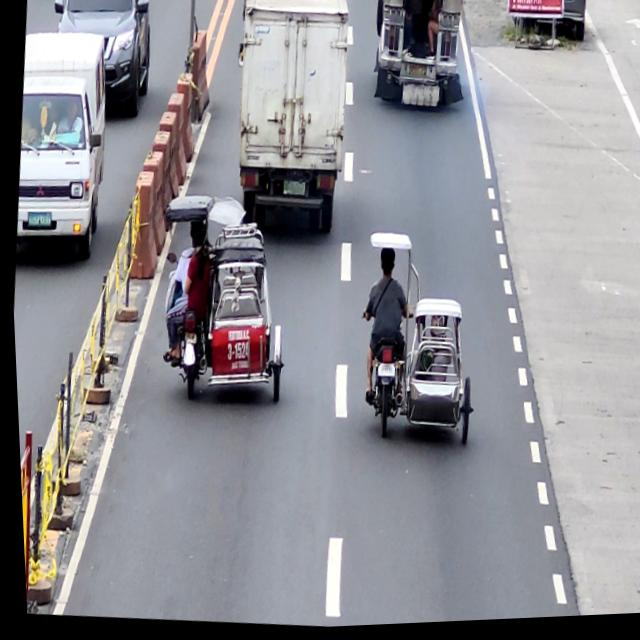Jeep: (366, 0, 470, 120)
License-Plate: (281, 182, 305, 199), (372, 364, 393, 383)
Tricycle: (144, 190, 300, 416), (345, 227, 487, 454)
Truck: (220, 0, 359, 247)
